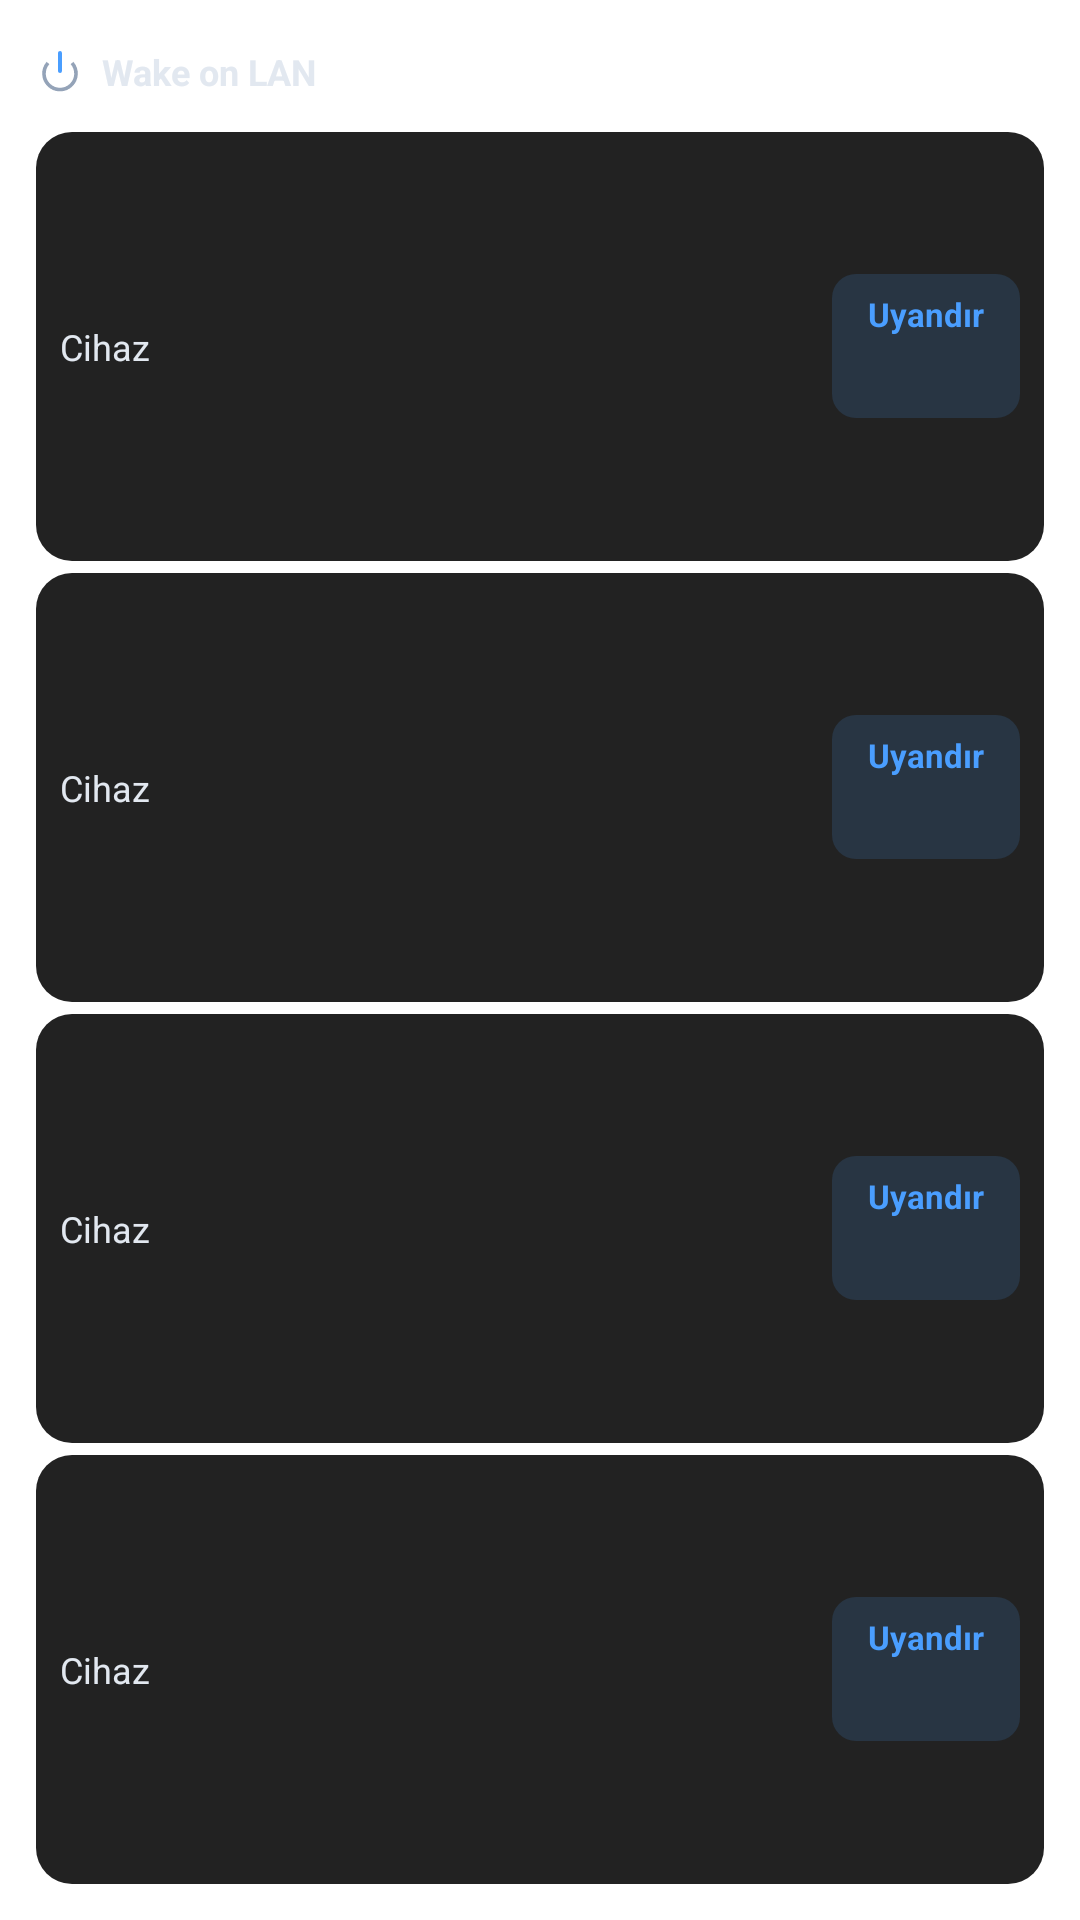

Named icons in this screenshot (1080 × 1920) and their bounding boxes, (x1=x1, y1=y1, x2=x2, y2=y2):
wol unit: (x1=42, y1=51, x2=78, y2=92)
